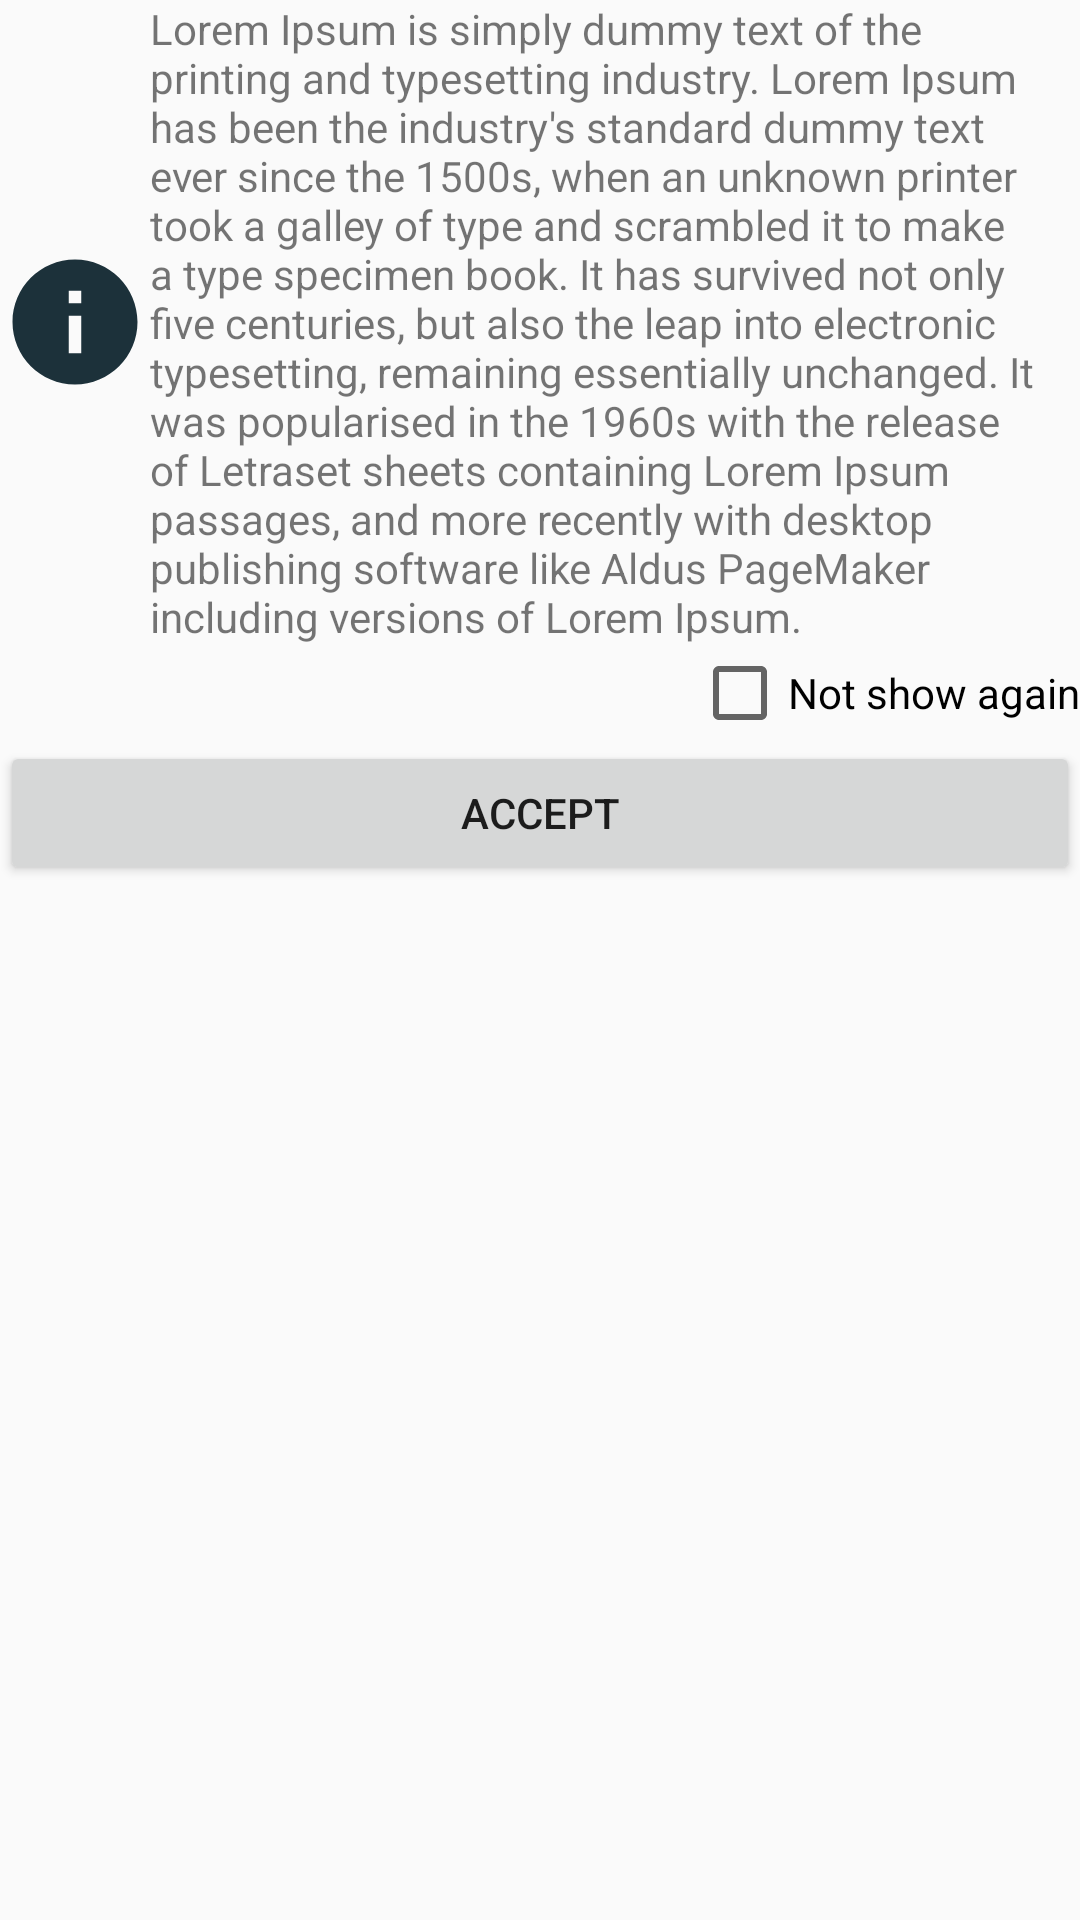

Screen size 1080x1920. Icon name, then its box in pixels as (x1, y1, x2, y2):
info: (12, 259, 138, 385)
